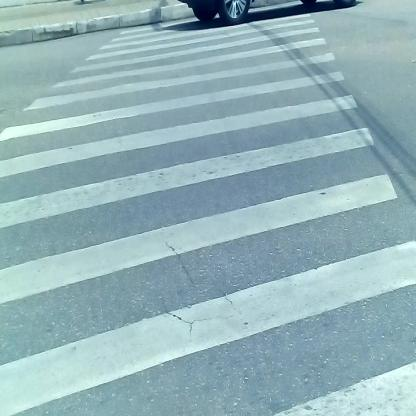crosswalk: (19, 55, 410, 416)
sidewalk: (3, 7, 323, 42)
